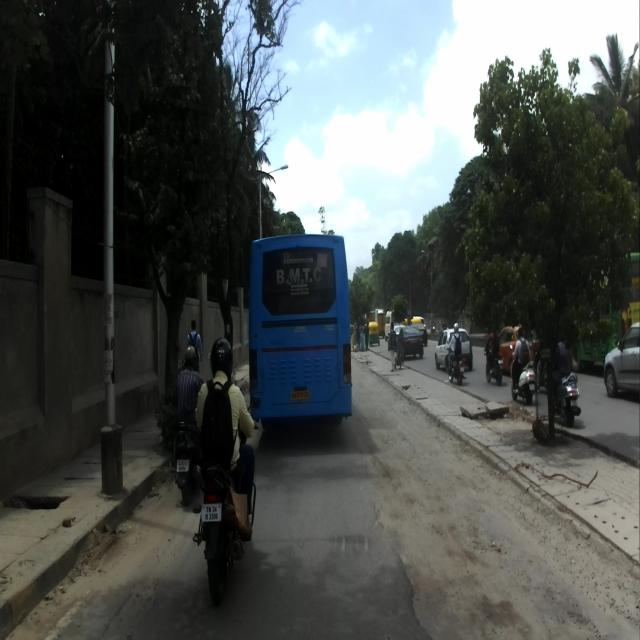bus: (247, 232, 354, 427)
motorcycle: (192, 394, 262, 602)
scooter: (169, 417, 206, 503), (545, 360, 581, 428), (508, 342, 536, 406)
